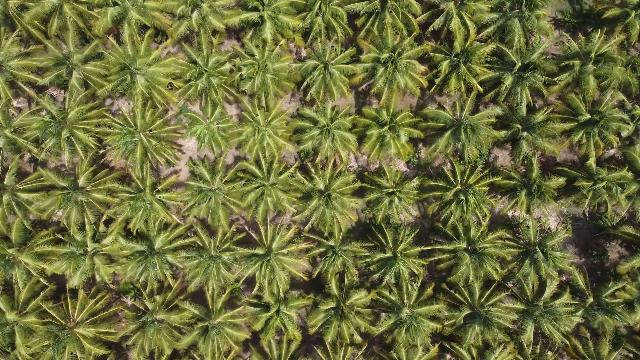trees: (7, 8, 110, 100), (15, 284, 129, 360), (6, 87, 104, 173), (14, 161, 121, 236), (422, 11, 503, 106), (306, 269, 390, 359), (549, 27, 635, 112), (28, 218, 121, 295), (502, 270, 587, 354), (483, 26, 564, 114), (363, 276, 447, 360), (175, 222, 260, 305), (435, 278, 522, 359), (426, 218, 516, 296), (97, 103, 188, 180), (108, 220, 197, 298), (91, 34, 183, 108), (117, 286, 208, 360), (420, 159, 508, 234), (102, 167, 188, 243), (421, 95, 506, 168), (232, 150, 309, 230), (359, 224, 440, 300), (287, 160, 363, 241), (499, 217, 576, 293), (227, 97, 300, 175), (357, 32, 433, 106), (499, 152, 573, 227), (241, 283, 314, 359), (291, 100, 368, 172), (171, 39, 240, 117), (175, 156, 245, 231), (562, 157, 637, 226), (292, 41, 366, 110), (357, 161, 428, 232), (579, 269, 640, 350), (356, 99, 427, 168), (233, 38, 297, 112), (475, 2, 555, 52), (170, 2, 249, 48), (94, 2, 173, 46), (289, 3, 359, 52), (227, 4, 299, 51), (351, 2, 424, 46), (3, 185, 55, 242), (12, 2, 69, 49)
